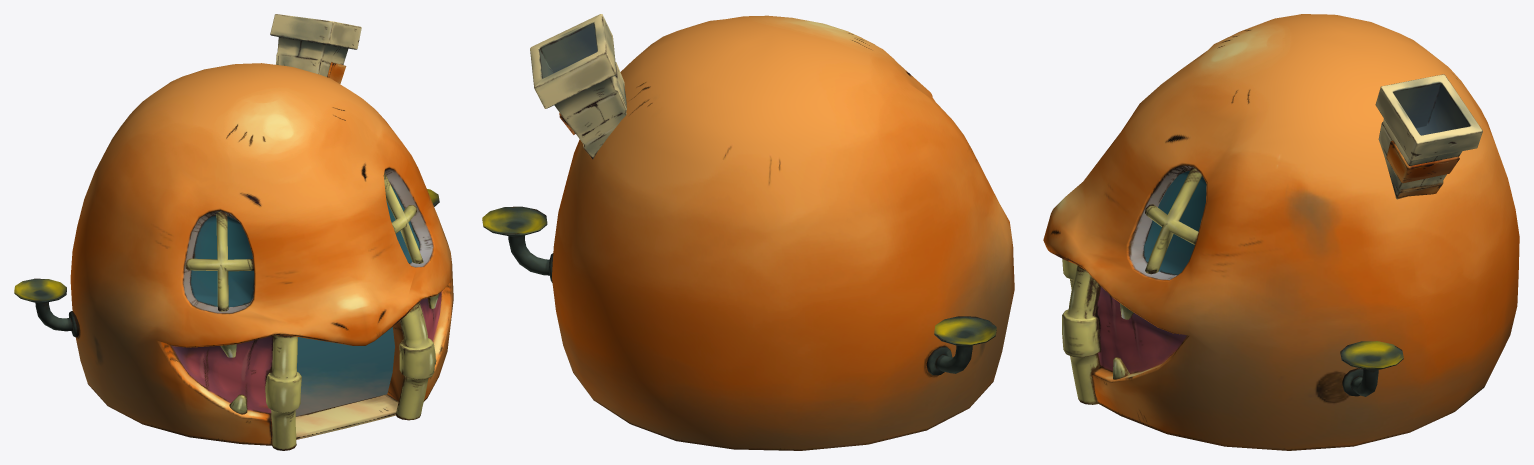
File: charmander_house.glb
The picture shows the model from 3 angles, left to right: view 1: azimuth 30°, elevation 25°; view 2: azimuth 150°, elevation 25°; view 3: azimuth 270°, elevation 25°; orthographic projection. The views are drawn at different scales.
Visible parts, largest first — view 1: Object_2; view 2: Object_2; view 3: Object_2.
Boxes of the visible parts, x1,y1,x2,y2 form: Object_2: (14, 14, 453, 450); Object_2: (482, 14, 1014, 450); Object_2: (1043, 14, 1519, 450).
Size of the model in its own units: 4.76 by 3.17 by 4.02.
Materials: 1 (1 with a texture image).
